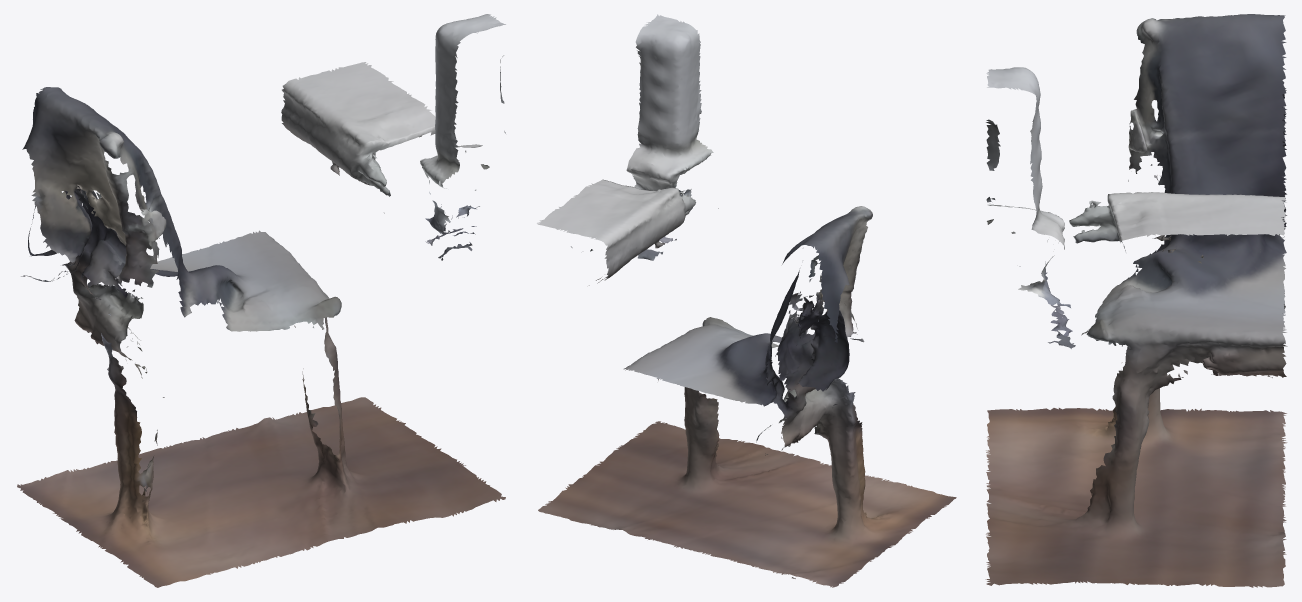
File: apartment-full-97-68cdaaaa516f.glb
The picture shows the model from 3 angles, left to right: view 1: azimuth 30°, elevation 25°; view 2: azimuth 150°, elevation 25°; view 3: azimuth 270°, elevation 25°; orthographic projection. The views are drawn at different scales.
Bounding box in the file's own units: 0.861 × 1.18 × 0.606.
